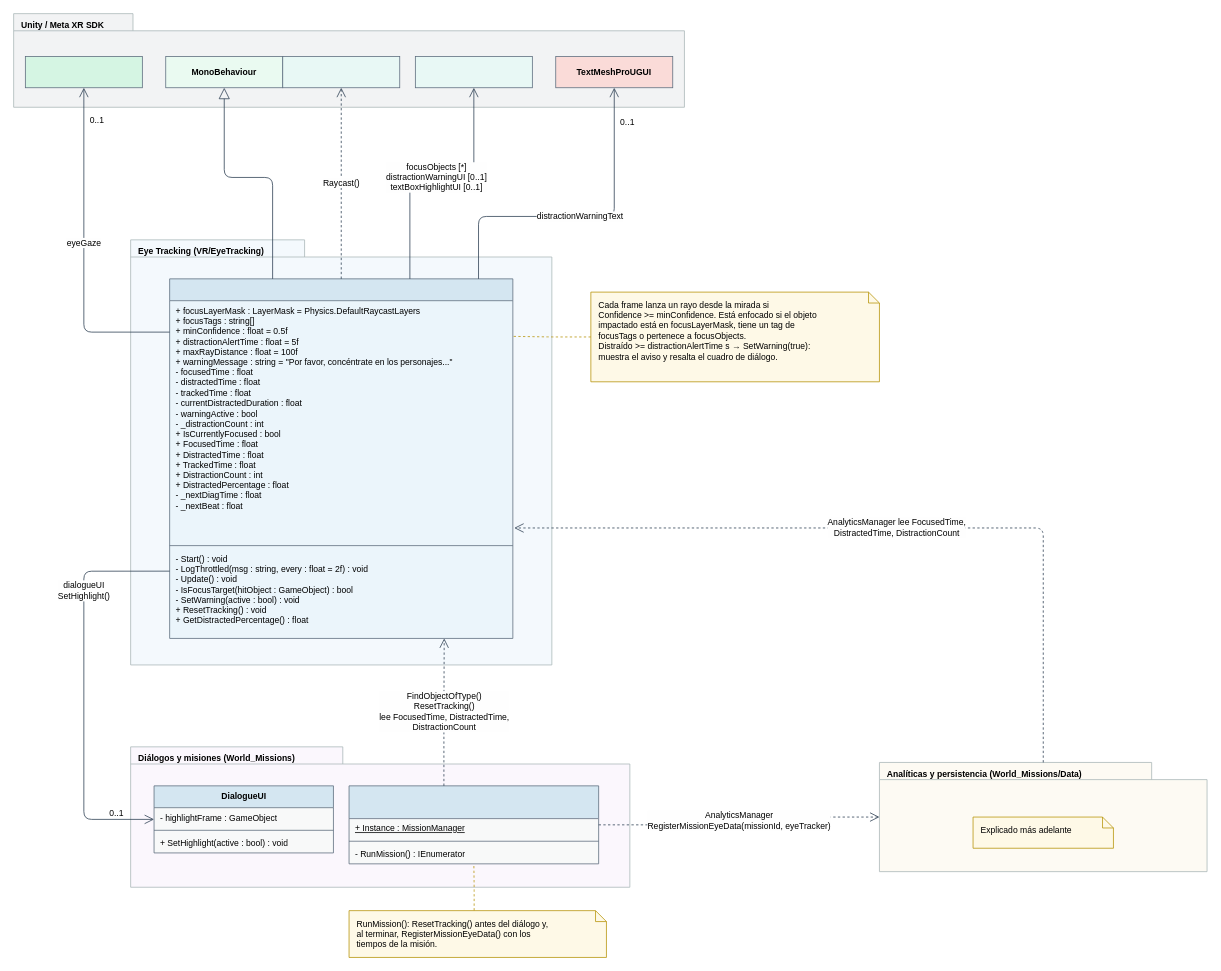
Some shapes in this 1221 by 971 pixel diagram are drawn without their labels. The box of each missing label's shape, as (x1, y1, x2, y2) in pixels:
EyeTracking: (169, 278, 513, 638)
GameObject: (415, 56, 532, 88)
OVREyeGaze: (25, 56, 142, 88)
Physics: (282, 56, 400, 88)
«singleton por escena» MissionManager: (348, 785, 599, 864)
